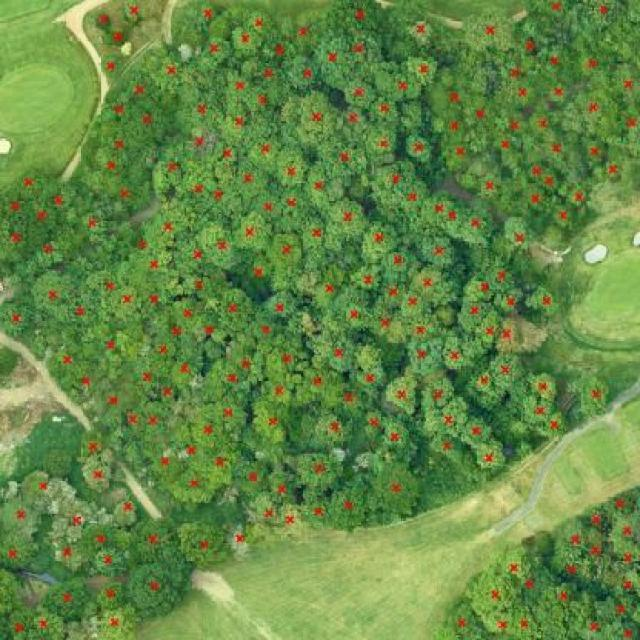tree: (124, 515, 187, 566), (127, 559, 182, 616), (371, 458, 418, 520), (179, 516, 233, 567), (283, 90, 335, 138), (38, 578, 98, 619), (485, 542, 543, 581), (198, 221, 244, 268), (466, 573, 519, 613), (22, 469, 68, 515), (310, 330, 356, 375), (28, 269, 74, 312), (298, 446, 338, 494), (250, 400, 292, 445), (322, 143, 370, 182), (447, 55, 495, 93), (172, 469, 221, 506), (462, 23, 515, 57), (330, 481, 364, 533), (231, 211, 274, 252), (324, 0, 384, 29), (322, 381, 369, 417), (422, 400, 469, 435), (548, 550, 595, 585), (148, 209, 189, 249), (0, 500, 43, 538), (110, 427, 153, 465), (463, 370, 506, 408), (355, 345, 389, 393), (206, 361, 251, 397), (53, 500, 93, 540), (327, 198, 368, 237), (488, 351, 530, 389), (152, 158, 189, 201), (191, 413, 231, 452), (380, 419, 422, 456), (362, 222, 399, 263), (402, 339, 444, 375), (378, 31, 420, 67), (577, 374, 611, 418), (99, 125, 138, 163), (283, 16, 323, 53), (215, 291, 251, 332), (385, 375, 420, 417), (501, 421, 539, 459), (439, 335, 476, 374), (595, 25, 640, 57), (442, 604, 482, 640), (412, 267, 453, 302), (455, 297, 496, 332), (80, 452, 114, 494), (315, 39, 354, 75), (420, 234, 460, 269), (9, 167, 52, 199), (26, 607, 69, 639), (269, 232, 306, 269), (377, 71, 421, 102), (89, 545, 131, 577), (540, 581, 582, 613), (212, 397, 248, 434), (63, 256, 97, 295), (523, 284, 562, 318), (517, 392, 557, 425), (554, 521, 594, 554), (582, 529, 615, 569), (0, 529, 32, 570), (370, 165, 412, 196), (265, 345, 307, 376), (343, 29, 379, 65), (95, 383, 130, 420), (228, 345, 263, 382), (339, 105, 373, 143), (466, 246, 505, 279), (461, 206, 493, 246), (287, 55, 322, 91), (538, 220, 574, 255), (233, 162, 270, 196), (491, 134, 525, 171), (430, 432, 467, 466), (235, 455, 267, 494), (315, 414, 354, 446), (313, 267, 342, 310), (114, 282, 145, 322), (106, 182, 142, 216), (149, 442, 183, 478), (479, 606, 515, 640), (511, 22, 544, 59), (570, 607, 607, 640), (264, 375, 299, 409), (94, 610, 135, 639), (501, 215, 533, 252), (208, 447, 239, 485), (600, 489, 640, 518), (41, 446, 75, 480), (266, 470, 300, 504), (474, 311, 506, 347), (84, 523, 125, 551), (75, 169, 108, 203), (96, 148, 130, 181), (275, 152, 308, 186), (206, 182, 240, 215), (459, 413, 492, 447), (612, 62, 640, 102), (34, 237, 68, 269), (252, 191, 286, 223), (405, 55, 440, 86), (491, 398, 526, 429), (301, 215, 330, 252), (397, 181, 426, 218), (618, 105, 640, 153), (67, 365, 98, 399), (128, 361, 162, 392), (279, 188, 310, 222), (529, 373, 563, 404), (510, 606, 541, 640), (0, 222, 29, 258), (399, 102, 435, 131), (421, 377, 457, 406), (576, 505, 616, 531), (370, 127, 398, 164), (226, 523, 254, 560), (48, 346, 81, 377), (402, 133, 435, 164), (0, 305, 31, 337), (133, 101, 164, 133), (467, 97, 498, 129), (517, 570, 548, 602), (498, 182, 530, 213), (539, 138, 573, 167), (264, 291, 298, 320), (472, 443, 506, 472), (255, 491, 283, 526), (341, 78, 377, 105), (582, 0, 624, 23), (601, 596, 638, 622), (154, 59, 185, 90), (230, 24, 261, 55), (181, 241, 212, 272), (438, 112, 469, 143), (384, 246, 415, 277), (102, 97, 135, 126), (297, 408, 326, 441), (114, 324, 141, 359), (305, 165, 329, 204), (0, 191, 29, 223), (95, 581, 127, 610), (429, 302, 462, 330), (63, 617, 103, 640), (0, 572, 22, 613), (397, 0, 438, 22), (79, 433, 108, 464), (251, 132, 280, 163), (508, 83, 539, 112), (527, 109, 556, 140), (278, 505, 307, 536), (564, 21, 595, 50), (36, 314, 69, 341), (422, 192, 455, 219), (92, 243, 126, 269), (226, 103, 252, 137), (369, 312, 403, 338), (1, 262, 36, 287), (0, 612, 31, 640), (180, 438, 208, 469), (536, 412, 567, 440), (91, 272, 123, 299), (500, 111, 532, 138), (53, 542, 85, 569), (487, 264, 516, 293), (351, 449, 386, 473), (370, 98, 401, 125), (609, 572, 640, 599), (27, 201, 53, 233), (585, 96, 617, 122), (400, 290, 426, 322), (380, 280, 406, 312), (170, 299, 202, 325), (300, 375, 326, 407), (468, 274, 502, 298), (125, 72, 153, 101), (159, 127, 188, 155), (153, 378, 181, 407), (612, 542, 640, 571), (201, 38, 232, 64), (306, 497, 332, 528), (248, 316, 279, 342), (186, 170, 209, 205), (442, 202, 464, 238), (148, 335, 177, 362), (185, 125, 212, 154), (444, 143, 471, 172), (544, 42, 567, 76), (350, 265, 384, 288), (341, 304, 373, 328), (549, 202, 576, 230), (248, 256, 275, 284), (169, 359, 197, 386), (80, 210, 106, 239), (142, 285, 166, 316), (539, 168, 563, 199), (582, 137, 606, 168), (578, 87, 593, 136), (182, 272, 209, 299), (99, 352, 125, 380), (407, 20, 435, 46), (545, 80, 573, 106), (496, 287, 524, 313), (70, 299, 95, 328), (611, 615, 640, 640), (496, 319, 519, 350), (189, 96, 216, 122), (477, 173, 501, 202), (164, 320, 190, 346), (113, 499, 139, 525), (130, 229, 155, 256), (522, 185, 547, 212), (172, 42, 200, 66), (263, 38, 291, 62), (196, 317, 219, 346), (363, 409, 386, 438), (239, 58, 270, 79), (452, 172, 483, 193), (25, 333, 50, 359), (542, 615, 568, 640), (499, 60, 527, 83), (191, 3, 220, 25), (535, 0, 570, 18), (602, 160, 626, 186), (143, 412, 169, 436), (122, 406, 146, 432), (248, 10, 275, 33), (222, 6, 253, 26), (99, 53, 122, 79), (213, 144, 239, 167), (140, 256, 166, 279), (51, 186, 72, 214), (252, 89, 276, 113), (259, 64, 284, 87), (0, 475, 23, 500), (567, 185, 590, 208), (122, 0, 143, 25), (442, 88, 467, 109), (407, 322, 433, 342), (228, 77, 252, 98), (83, 342, 108, 362), (525, 161, 548, 182), (325, 446, 349, 466), (0, 345, 15, 376), (576, 51, 593, 78), (175, 421, 194, 445), (95, 9, 112, 35), (98, 330, 117, 353), (105, 26, 126, 46)
